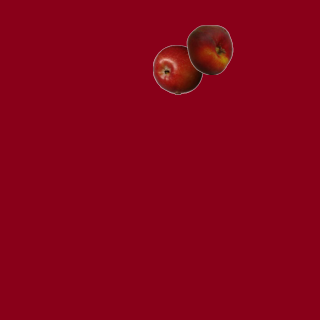Apple Braeburn: (152, 44, 202, 94)
Nectarine Flat: (184, 24, 234, 74)
